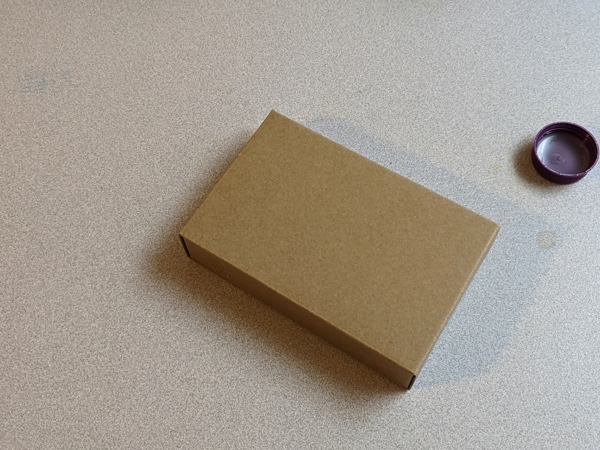cardboard: (154, 97, 514, 403)
